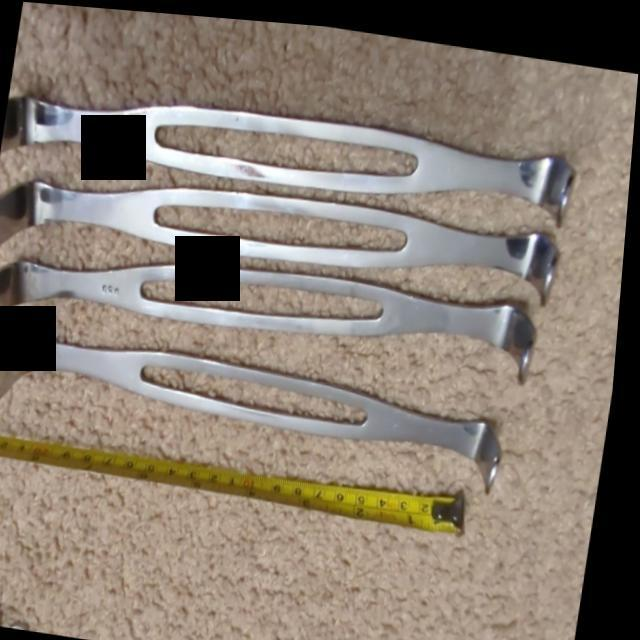Army Navy Retractor: (0, 214, 551, 443), (0, 64, 589, 250), (0, 146, 588, 332), (0, 312, 526, 509)
